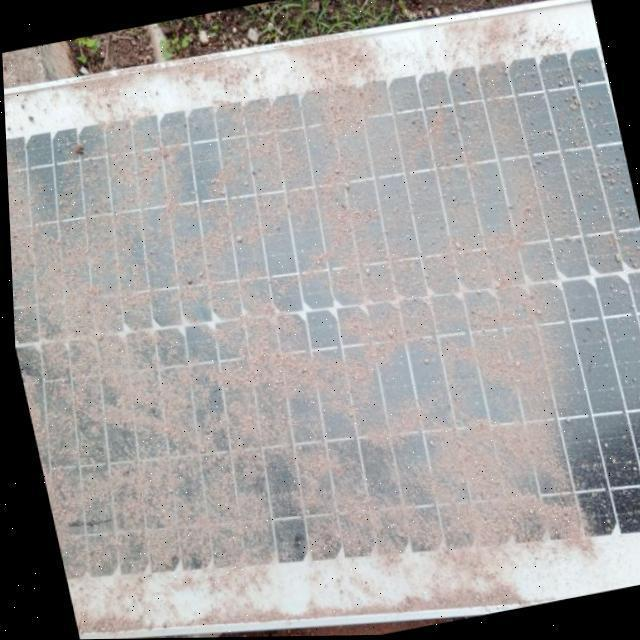Surface Contaminant: (4, 8, 640, 598)
